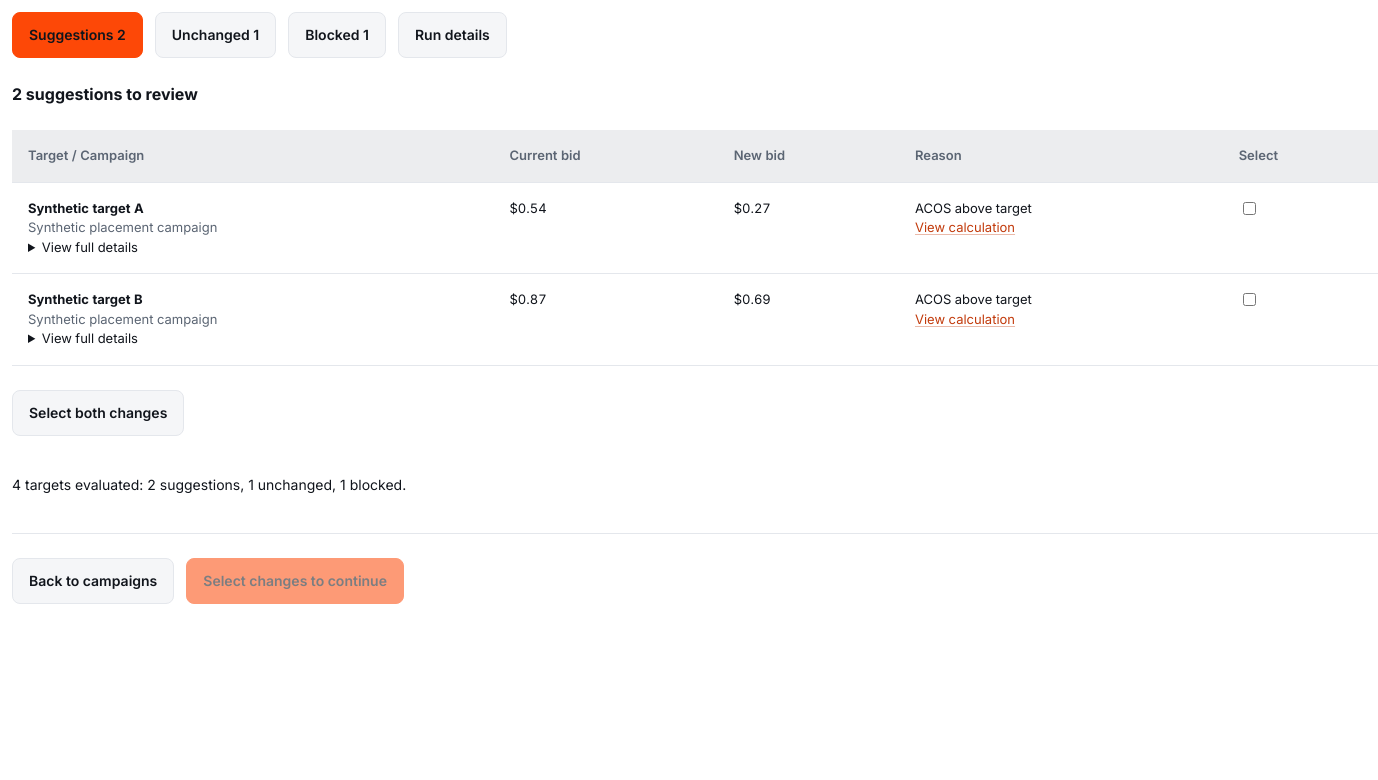
Test: review state rendering › renders retained unchanged rows without selectable controls
The image size is (1378, 780).
Click the tab "Unchanged 1" at (216, 35), box [155,12,276,58]
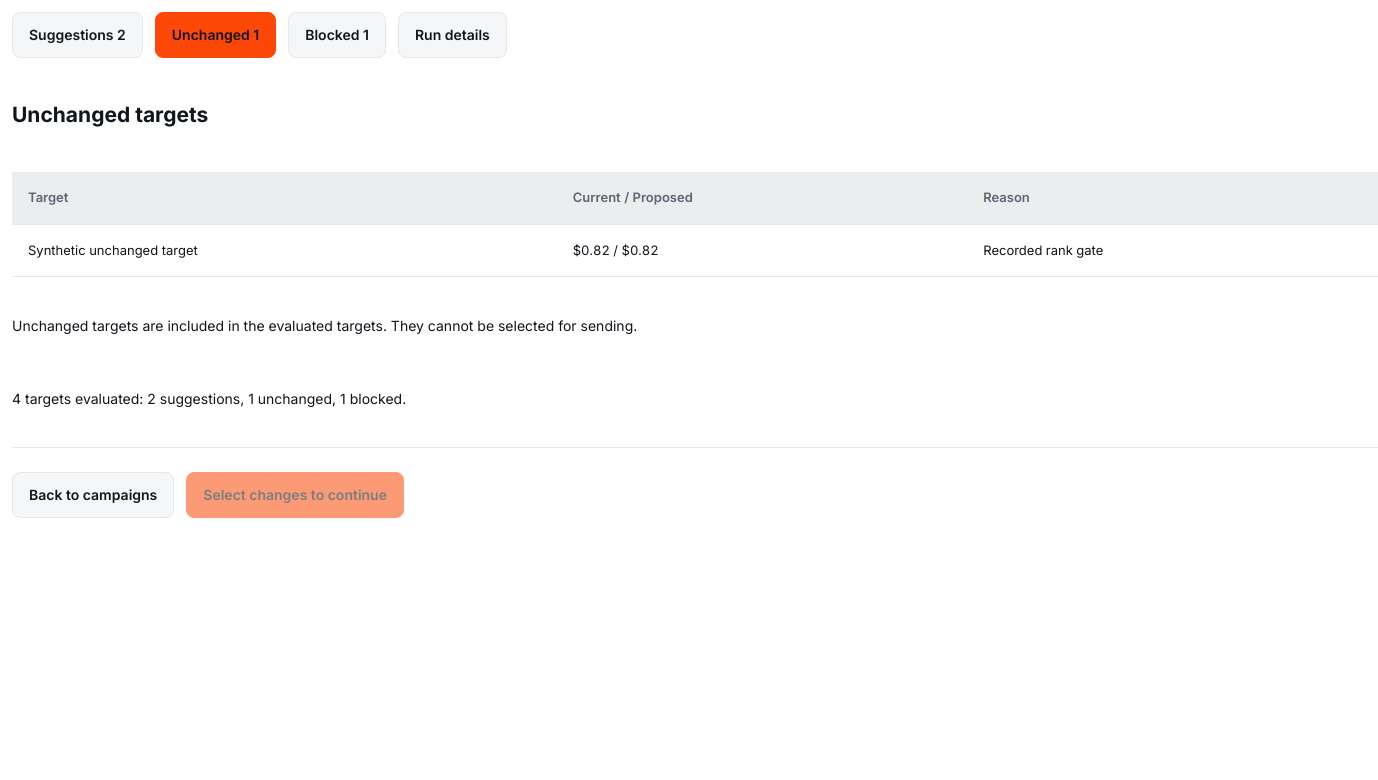
Now the text "Recorded rank gate" is shown, box [967,224,1377,277]
Now no checkboxes are shown
Now the text "They cannot be selected for sending" is shown, box [12,317,637,334]
